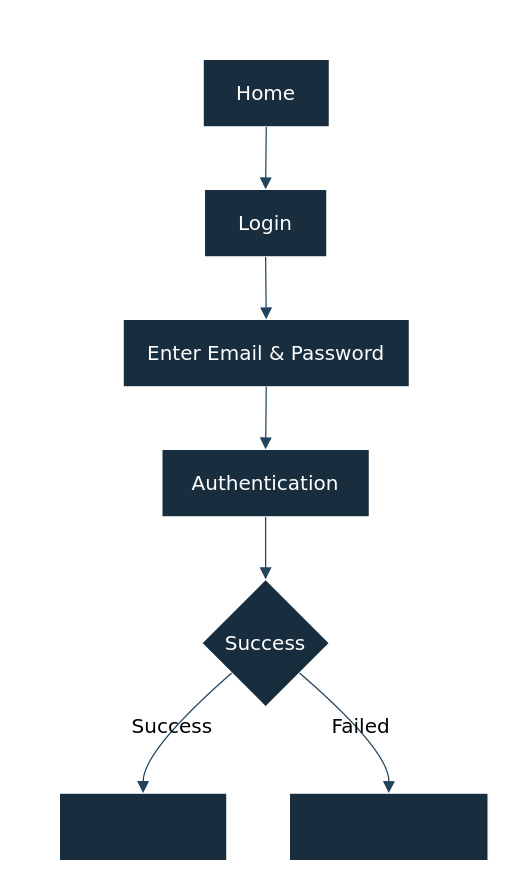
This 510x883 diagram has some shape labels left out. The shapes that lost their labels are listed below. From the top down, each one's centre as x and y in pixels, then its label:
the point at 142,826: Dashboard
the point at 388,826: Error Message
